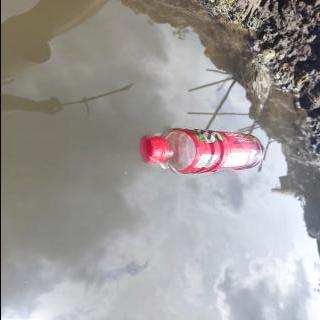bottle: (136, 125, 270, 176)
